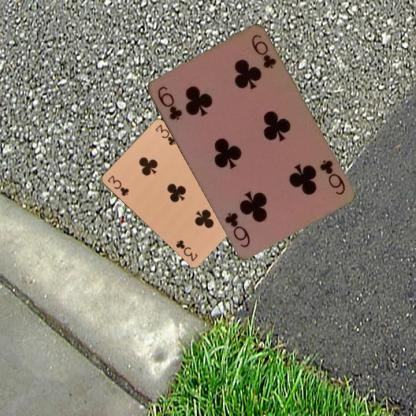3c: (105, 172, 130, 198)
6c: (154, 83, 184, 123), (316, 157, 346, 197)
